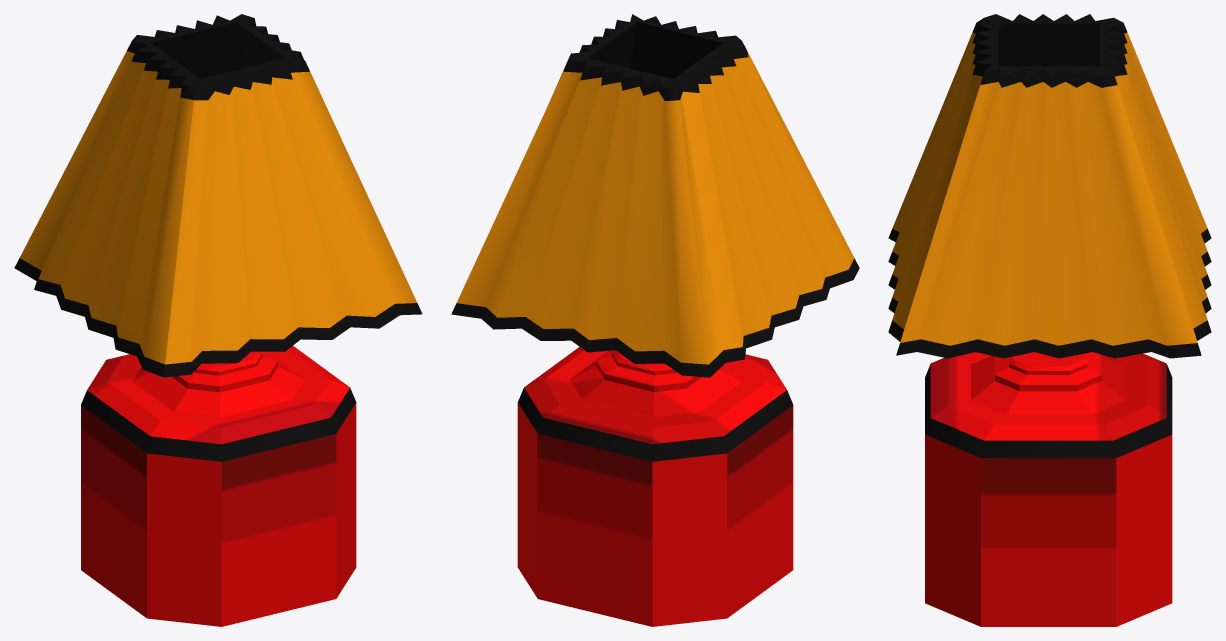
File: LightStand.FBX
The picture shows the model from 3 angles, left to right: view 1: azimuth 30°, elevation 25°; view 2: azimuth 150°, elevation 25°; view 3: azimuth 270°, elevation 25°; orthographic projection. The views are drawn at different scales.
Parts seen in each view (by area): view 1: nightstand_lamp_up, nightstand_lamp_base; view 2: nightstand_lamp_up, nightstand_lamp_base; view 3: nightstand_lamp_up, nightstand_lamp_base.
Part boxes in pixels (box(x1,y1,x2,y2)): nightstand_lamp_up: box(14, 14, 422, 377); nightstand_lamp_base: box(81, 346, 356, 626); nightstand_lamp_up: box(451, 14, 859, 377); nightstand_lamp_base: box(517, 347, 793, 626); nightstand_lamp_up: box(888, 14, 1211, 358); nightstand_lamp_base: box(925, 352, 1172, 626).
Size of the model in its own units: 6.63 by 12.07 by 6.68.
